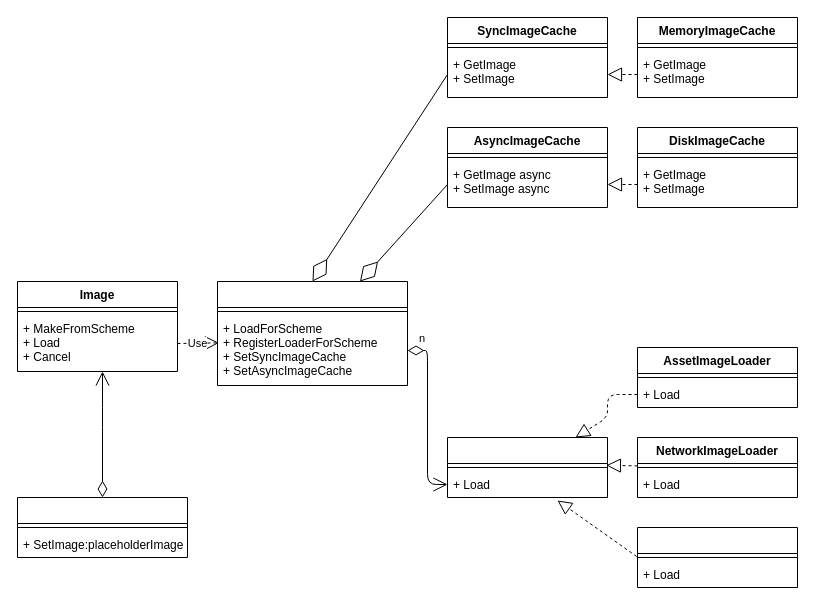
The diagram is 815 pixels wide and 608 high, and some of its shapes have lost their labels. The box of each missing label's shape, as (x1, y1, x2, y2) in pixels:
FileImageLoader: (636, 526, 798, 588)
ImageLoader: (446, 436, 608, 498)
ImageManager: (216, 280, 408, 386)
ImageView: (16, 496, 188, 558)
